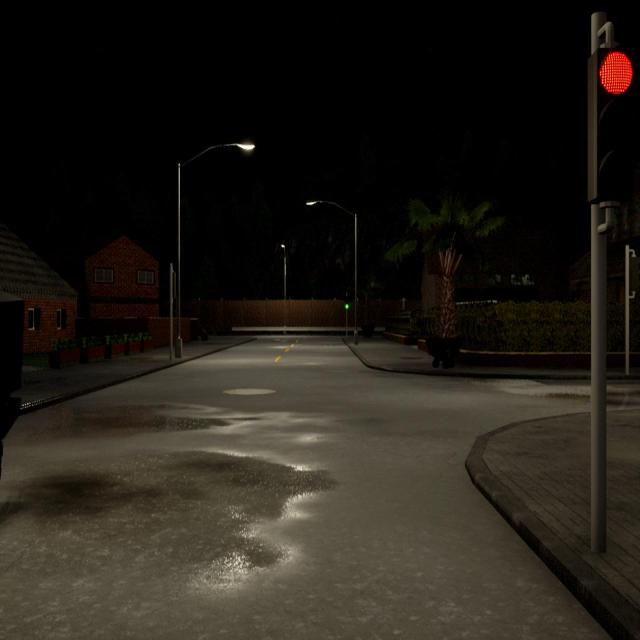Vehicle: (0, 287, 26, 489)
traffic_light: (588, 46, 635, 202), (629, 256, 640, 292), (172, 272, 176, 298), (345, 296, 349, 309)
